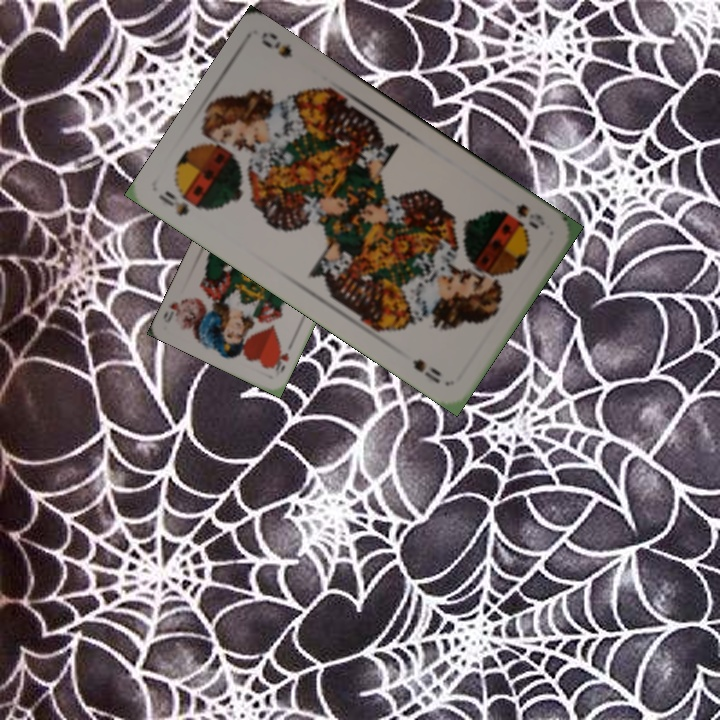HO: (268, 346, 292, 376)
SO: (154, 186, 192, 220), (512, 200, 548, 232)
